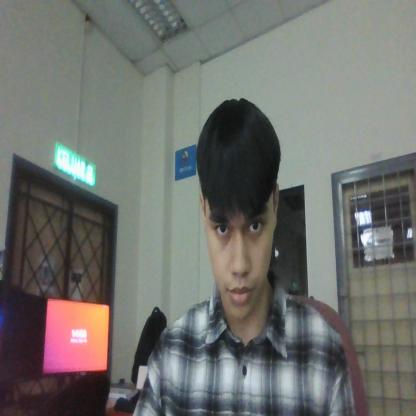Open-Eyes: (210, 205, 274, 247)
